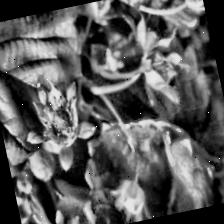Blossom Blight: (32, 90, 84, 152)
